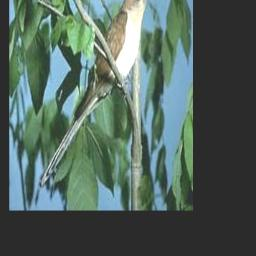Cuckoo: (37, 0, 158, 194)
